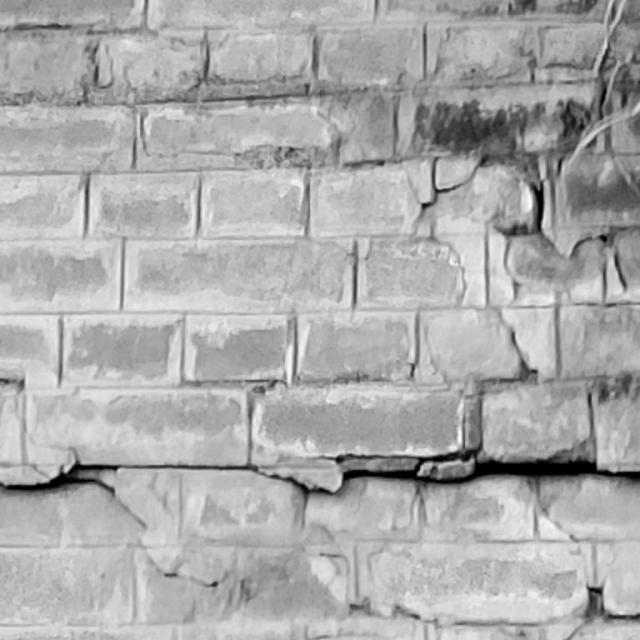crack: (2, 446, 640, 626), (417, 156, 629, 296)
